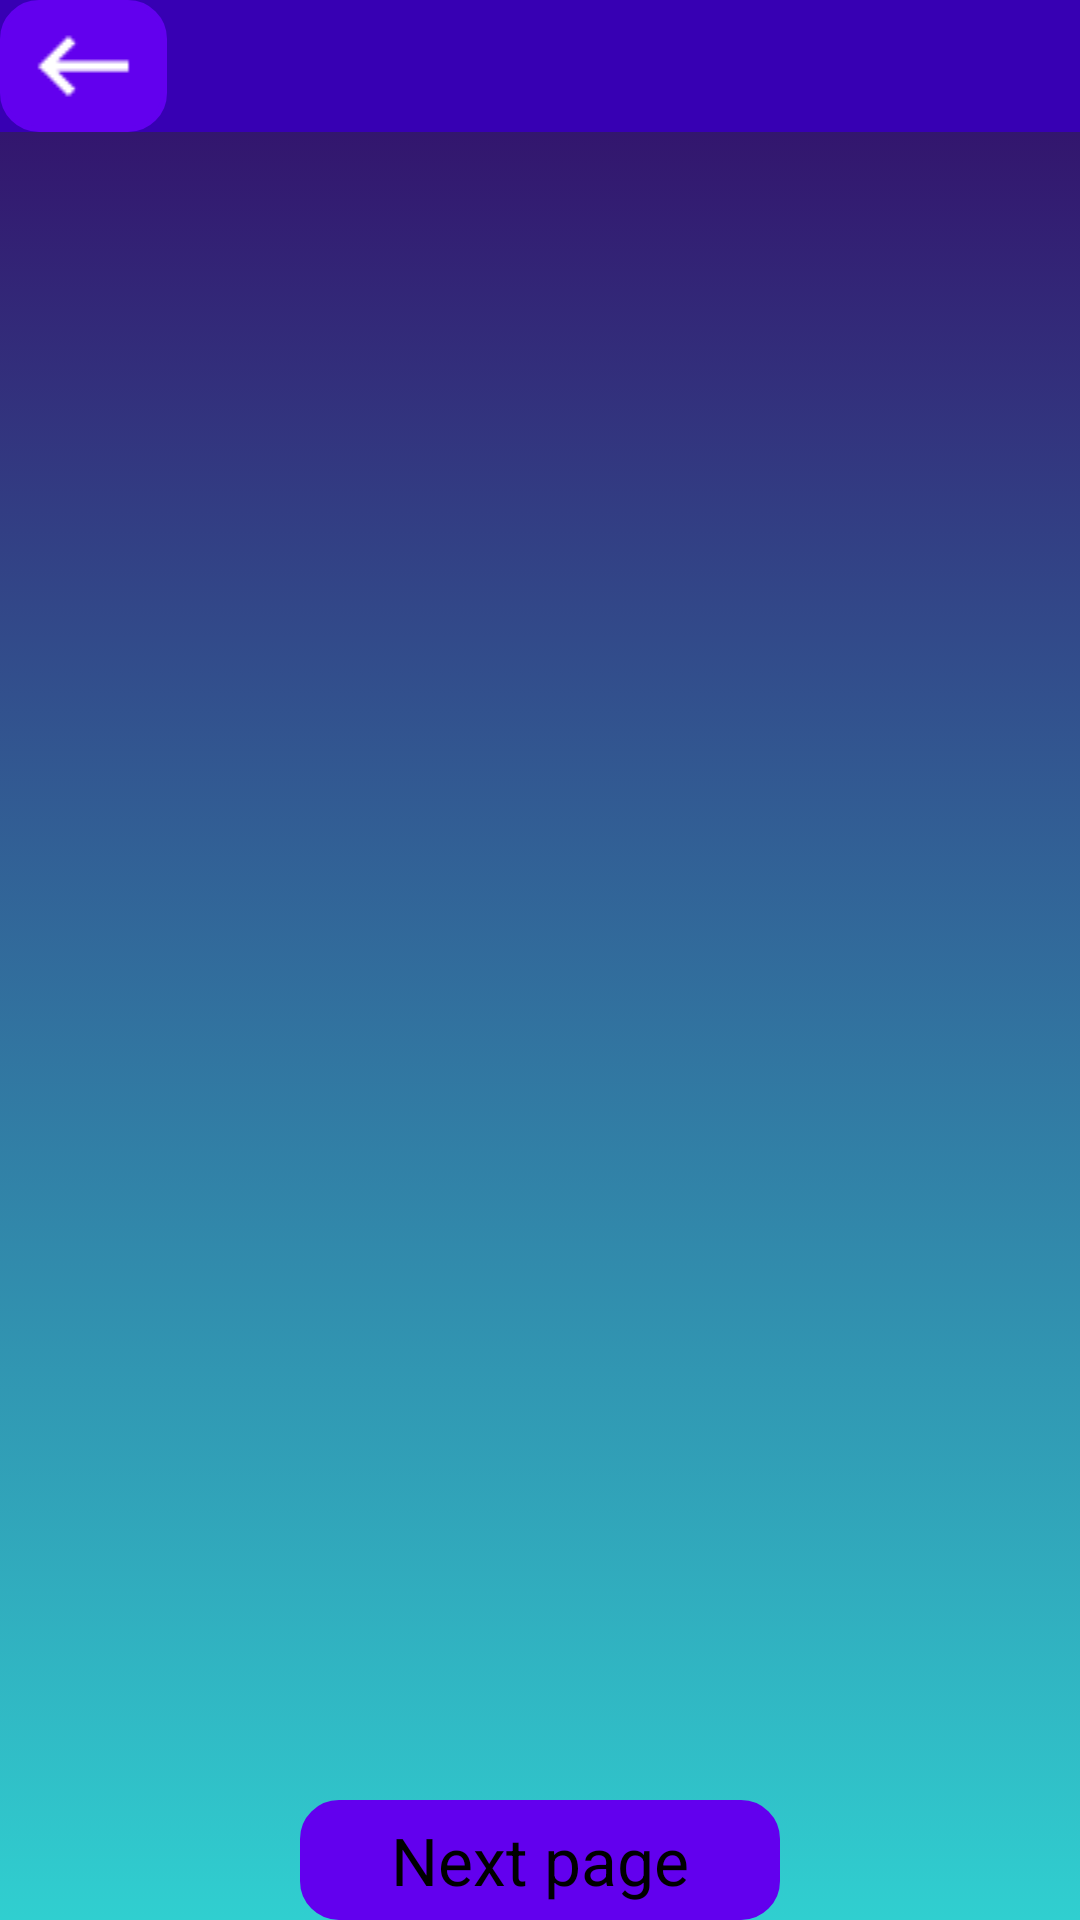

Icons on this 1080px×1920px Android screen, each with the point to tap as (x,y):
back: (83,66)
